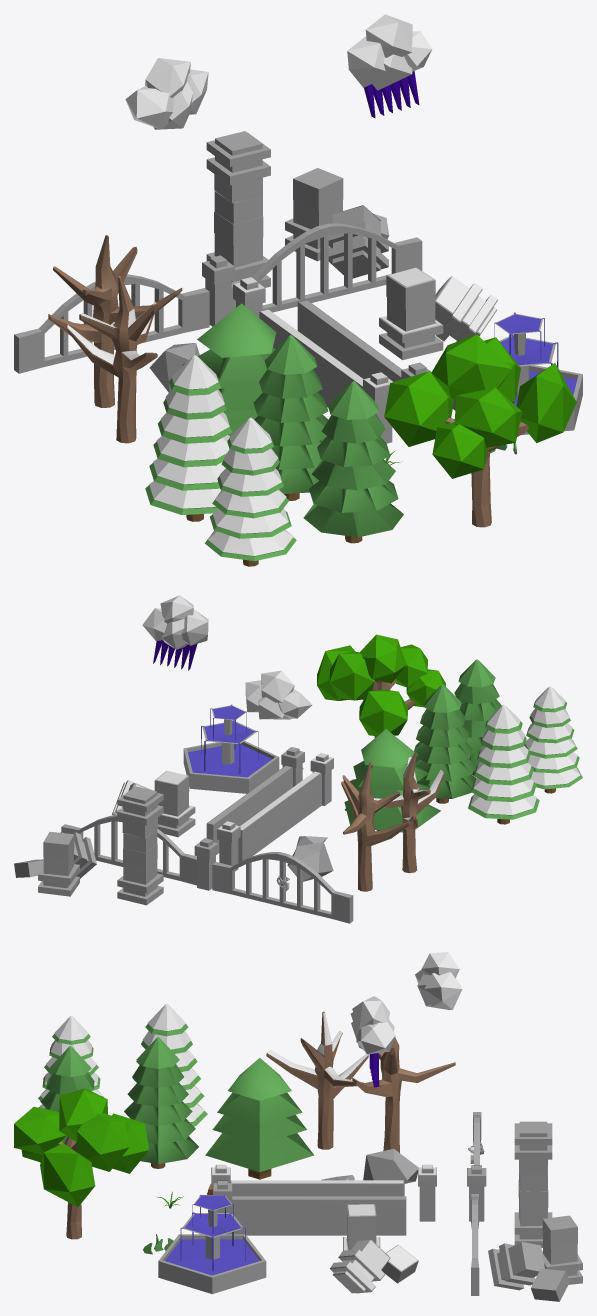
File: low poly models.fbx
The picture shows the model from 3 angles, top to bottom: view 1: azimuth 30°, elevation 25°; view 2: azimuth 150°, elevation 25°; view 3: azimuth 270°, elevation 25°; orthographic projection. The views are drawn at different scales.
Visible parts, largest first — view 1: pasted__pCylinder1 (×7), pasted__pCylinder2, pasted__pCube6 (×2), pasted__pCube1 (×4), pasted__pCube4, pasted__pCube2, pasted__group_pasted__pSolid1, group8, pasted__pasted__pSolid1 (×3), pasted__pPlane2, pasted__pSolid1; view 2: pasted__pCylinder1 (×7), pasted__pCube1 (×4), pasted__pCylinder2, pasted__pCube6 (×2), pasted__pPlane2, pasted__pCube4, group8, pasted__group_pasted__pSolid1, pasted__pasted__pSolid1 (×4), pasted__pCube2, pasted__pSolid1; view 3: pasted__pCylinder1 (×7), pasted__pCube1 (×4), pasted__pCylinder2, pasted__pCube6 (×2), pasted__pPlane2, pasted__pCube4, pasted__group_pasted__pSolid1, pasted__pasted__pSolid1 (×2), pasted__pSolid1, pasted__pCube2, group8.
Part boxes in pixels (x1,y1,x2,y2): pasted__pCylinder1 (×7): [48, 235, 403, 566]; pasted__pCylinder2: [384, 334, 576, 527]; pasted__pCube6 (×2): [285, 168, 497, 360]; pasted__pCube1 (×4): [202, 255, 431, 443]; pasted__pCube4: [206, 131, 270, 287]; pasted__pCube2: [231, 223, 422, 312]; pasted__group_pasted__pSolid1: [347, 14, 432, 118]; group8: [14, 274, 209, 373]; pasted__pasted__pSolid1 (×3): [125, 58, 193, 129]; pasted__pPlane2: [453, 312, 582, 434]; pasted__pSolid1: [149, 343, 199, 392]; pasted__pCylinder1 (×7): [341, 659, 582, 891]; pasted__pCube1 (×4): [194, 747, 333, 890]; pasted__pCylinder2: [317, 634, 445, 737]; pasted__pCube6 (×2): [14, 771, 195, 896]; pasted__pPlane2: [183, 704, 279, 793]; pasted__pCube4: [117, 786, 163, 905]; group8: [212, 852, 353, 923]; pasted__group_pasted__pSolid1: [142, 595, 208, 670]; pasted__pasted__pSolid1 (×4): [245, 670, 312, 719]; pasted__pCube2: [61, 815, 196, 885]; pasted__pSolid1: [287, 842, 333, 881]; pasted__pCylinder1 (×7): [38, 1003, 455, 1179]; pasted__pCube1 (×4): [211, 1164, 486, 1235]; pasted__pCylinder2: [14, 1088, 148, 1239]; pasted__pCube6 (×2): [330, 1204, 582, 1301]; pasted__pPlane2: [158, 1194, 266, 1294]; pasted__pCube4: [514, 1121, 552, 1247]; pasted__group_pasted__pSolid1: [350, 996, 395, 1087]; pasted__pasted__pSolid1 (×2): [421, 952, 462, 1009]; pasted__pSolid1: [363, 1148, 418, 1183]; pasted__pCube2: [471, 1194, 479, 1295]; group8: [468, 1112, 484, 1165].
Size of the model in its own units: 2060 by 1407 by 2657.
